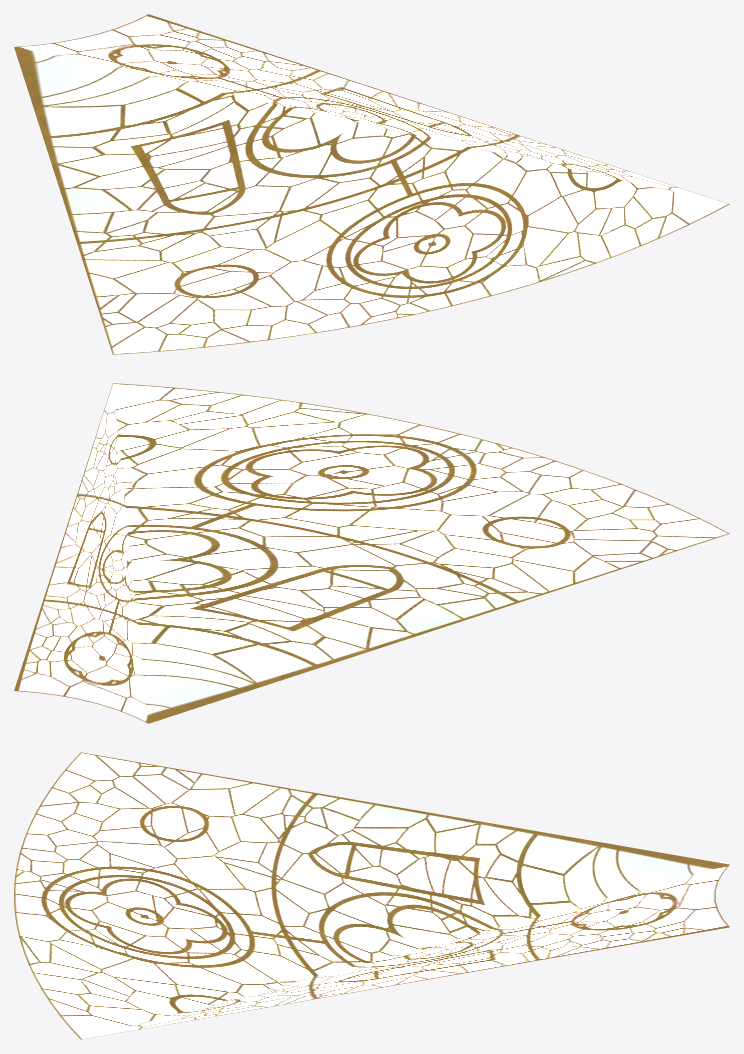
File: lb_wedgelit_7.glb
3 views of the same model, one above another, from view 1: azimuth 30°, elevation 25°; view 2: azimuth 150°, elevation 25°; view 3: azimuth 270°, elevation 25° (orthographic). The views are drawn at different scales.
Parts seen in each view (by area): view 1: lb_wedgelit_7; view 2: lb_wedgelit_7; view 3: lb_wedgelit_7.
Boxes of the visible parts, x1,y1,x2,y2 form: lb_wedgelit_7: (14, 14, 729, 354); lb_wedgelit_7: (14, 383, 729, 723); lb_wedgelit_7: (14, 752, 729, 1039).
Bounding box in the file's own units: 11.32 × 0 × 11.92.
1 material, 1 textured.
